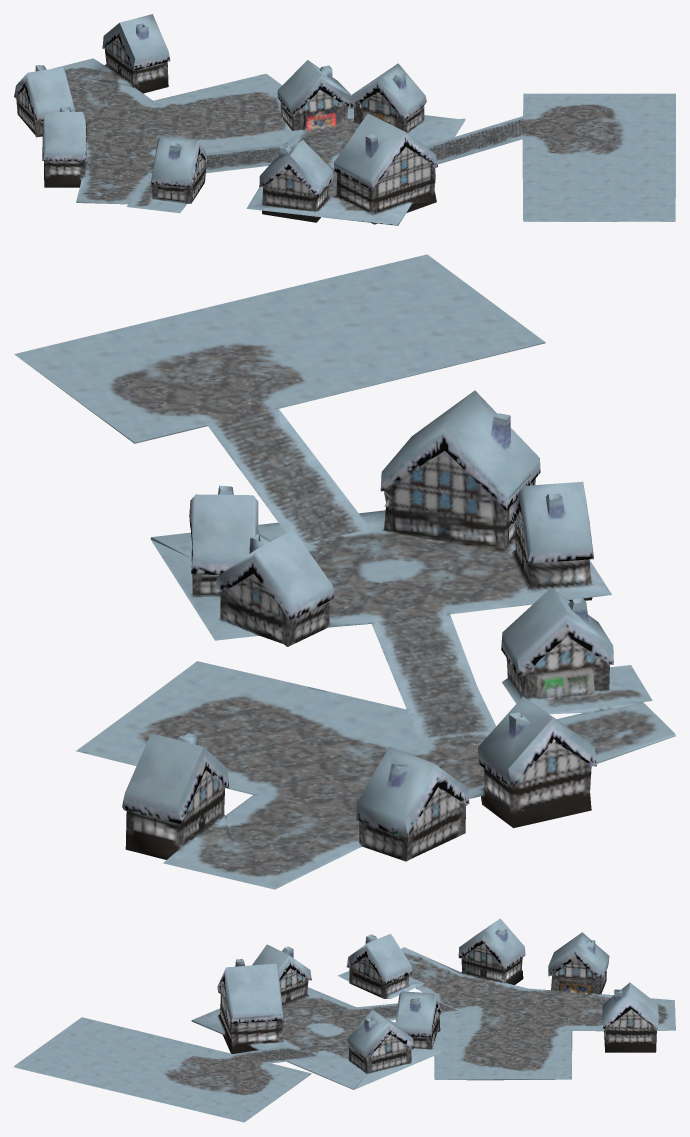
File: clod_town_t08_clod_far001.gltf
The picture shows the model from 3 angles, top to bottom: view 1: azimuth 30°, elevation 25°; view 2: azimuth 150°, elevation 25°; view 3: azimuth 270°, elevation 25°; orthographic projection. The views are drawn at different scales.
Parts seen in each view (by area): view 1: clod_town_t08_clod_far001_000_meshShape:remesh_mat; view 2: clod_town_t08_clod_far001_000_meshShape:remesh_mat; view 3: clod_town_t08_clod_far001_000_meshShape:remesh_mat.
Part boxes in pixels (<box>): clod_town_t08_clod_far001_000_meshShape:remesh_mat: <box>14,14,675,225</box>; clod_town_t08_clod_far001_000_meshShape:remesh_mat: <box>14,254,675,889</box>; clod_town_t08_clod_far001_000_meshShape:remesh_mat: <box>14,918,675,1122</box>.
Size of the model in its own units: 120 by 24.38 by 153.
Materials: 1 (1 with a texture image).
